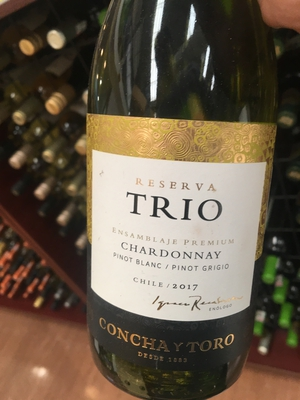trio chardonnay: (67, 14, 282, 387)
